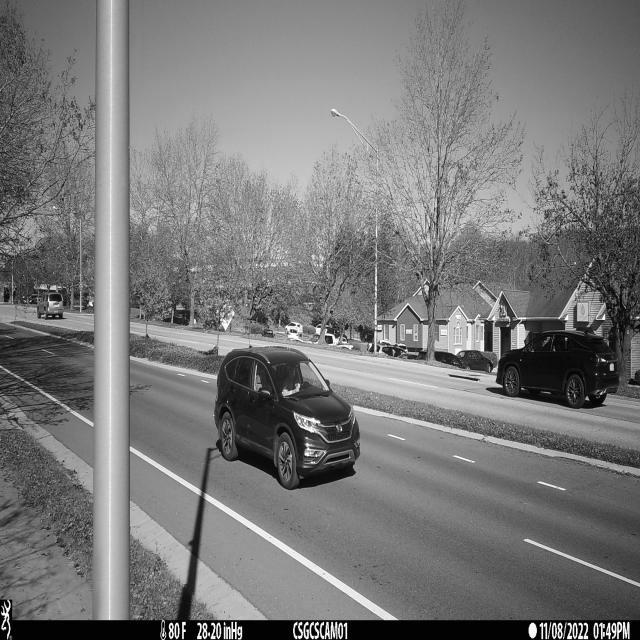SUV: (216, 344, 362, 491)
